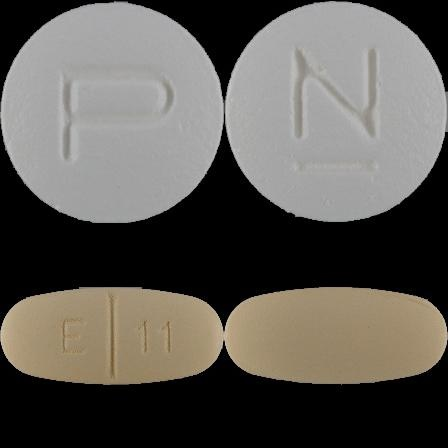16714-340: (0, 0, 224, 224)
